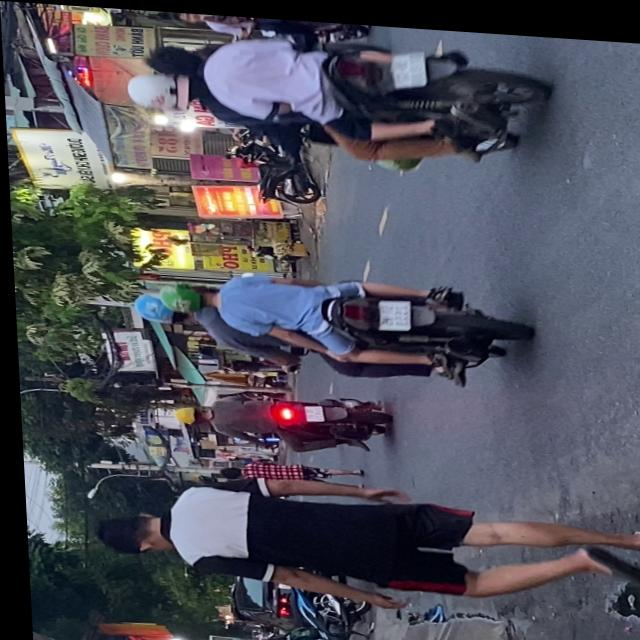helmet: (123, 66, 203, 112), (129, 289, 192, 324), (154, 277, 213, 311), (168, 401, 201, 421)
licenseplate: (119, 19, 555, 172), (127, 255, 530, 384), (166, 381, 388, 451), (171, 9, 378, 41)
motorcyclist: (143, 38, 209, 74), (174, 9, 202, 20)
nohelmet: (389, 44, 425, 82), (374, 293, 407, 325), (299, 400, 320, 417)
